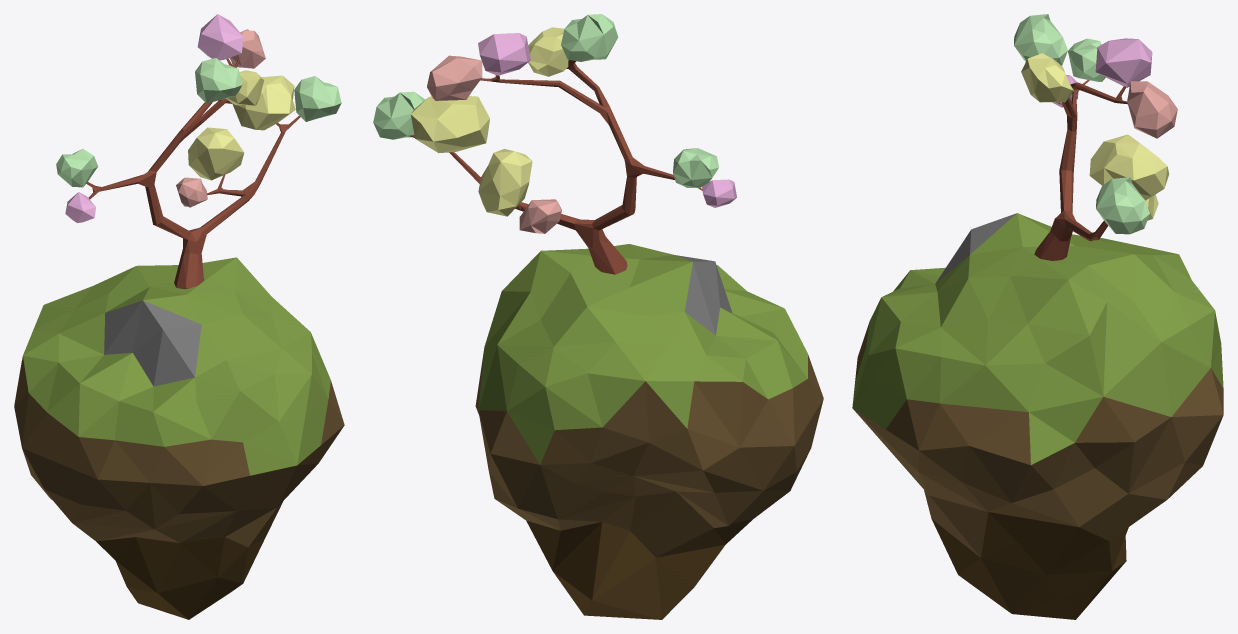
Rendered from small_island.glb.
The picture shows the model from 3 angles, left to right: view 1: azimuth 30°, elevation 25°; view 2: azimuth 150°, elevation 25°; view 3: azimuth 270°, elevation 25°; orthographic projection. The views are drawn at different scales.
Parts seen in each view (by area): view 1: island1; view 2: island1; view 3: island1.
Part boxes in pixels (<box>): island1: <box>14,14,344,619</box>; island1: <box>373,14,823,619</box>; island1: <box>852,14,1223,619</box>.
Bounding box in the file's own units: 13.47 × 19.85 × 10.93.
